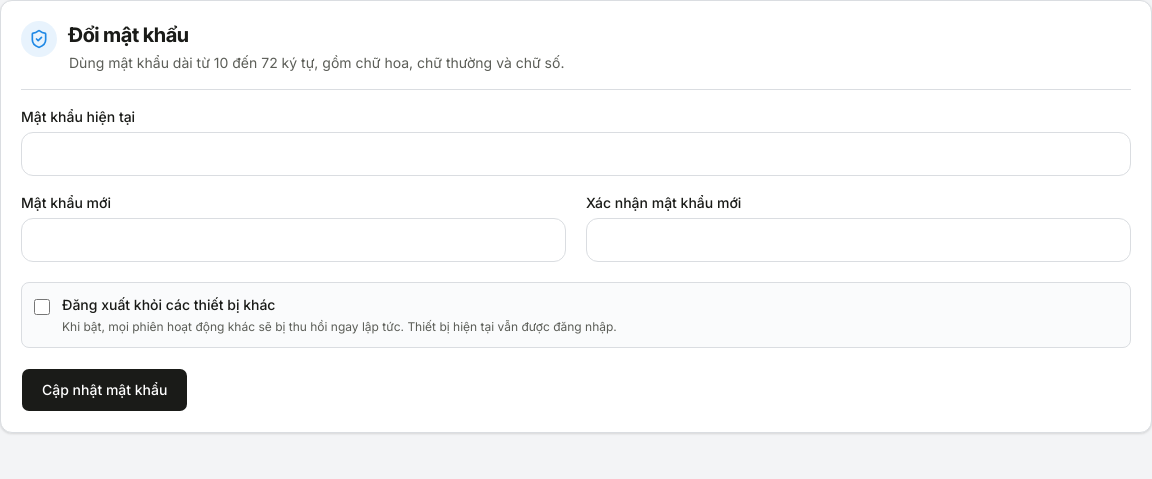
Scenario: ChangePasswordForm › maps INVALID_CURRENT_PASSWORD to the correct field
In the password field labelled "Mật khẩu hiện tại": [576, 154] box [21, 132, 1131, 176], type "CurrentPass1"
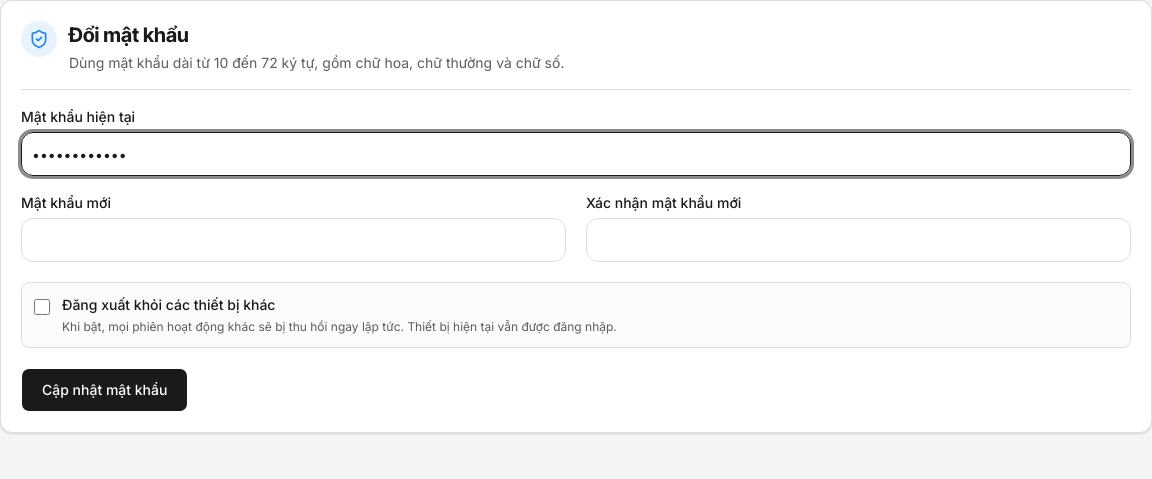
In the password field labelled "Mật khẩu mới": [294, 240] box [21, 218, 566, 262], type "NewPassword1"
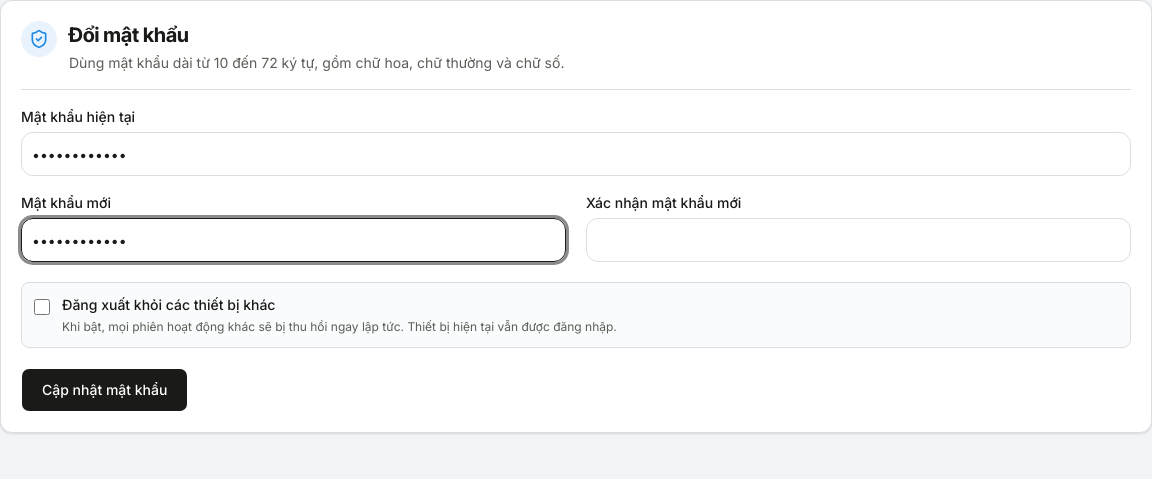
In the password field labelled "Xác nhận mật khẩu mới": [858, 240] box [586, 218, 1131, 262], type "NewPassword1"
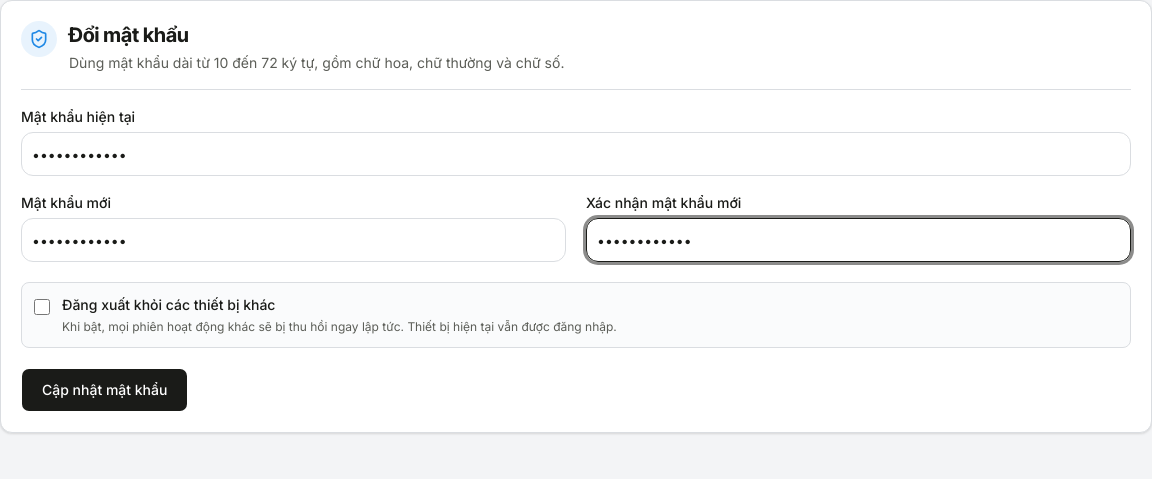
Click the button "Cập nhật mật khẩu": [105, 390] box [21, 368, 188, 412]
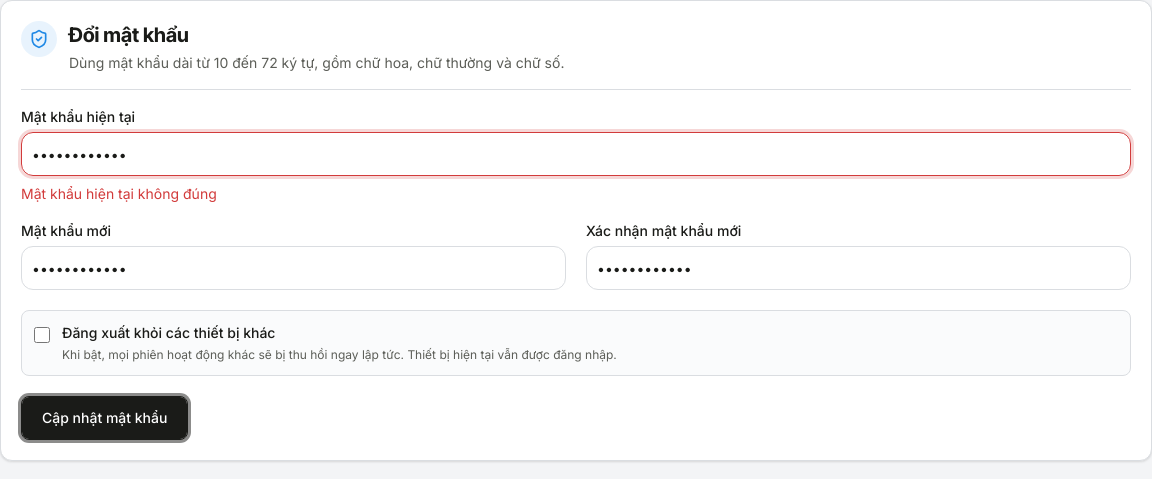
Expected: the text "Mật khẩu hiện tại không đúng" is shown, [21, 185, 217, 202]
